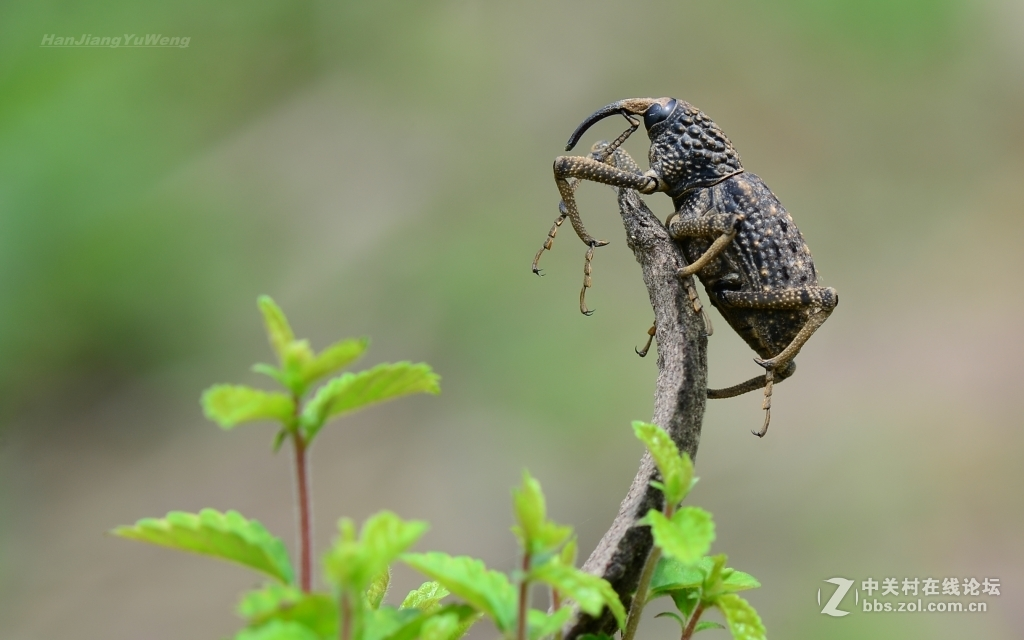Curculionidae: (530, 95, 840, 438)
